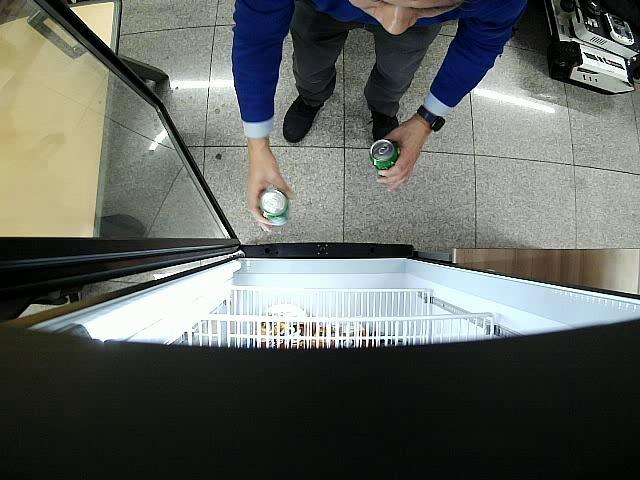12_chilsungCider: (258, 188, 290, 227), (370, 140, 400, 170)
